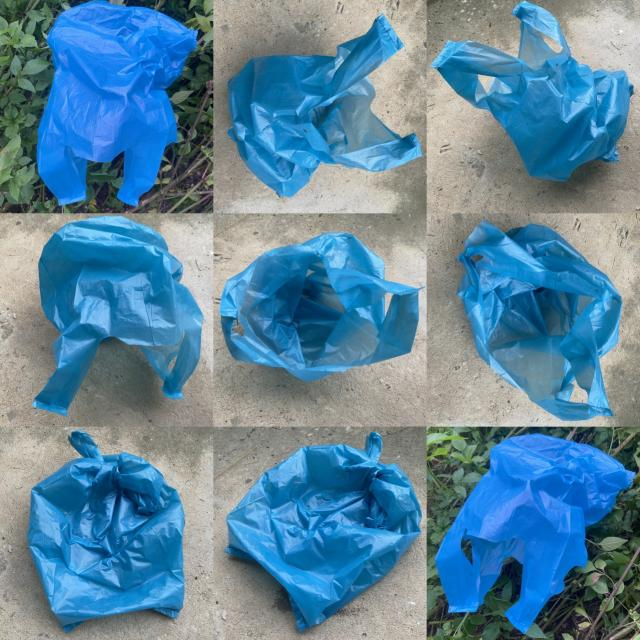Single-layer Plastic: (436, 434, 634, 634), (225, 432, 421, 631), (431, 1, 632, 181), (228, 15, 421, 196), (32, 216, 204, 415), (458, 220, 621, 421), (38, 1, 196, 205), (28, 431, 185, 632), (220, 232, 420, 381)
